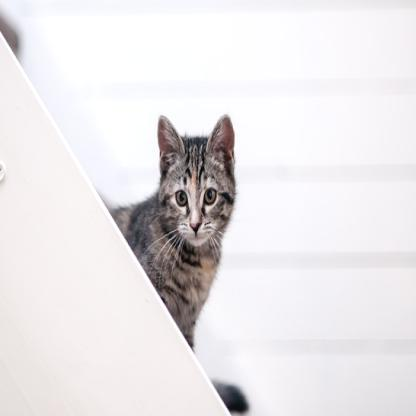cat: (110, 115, 236, 355)
